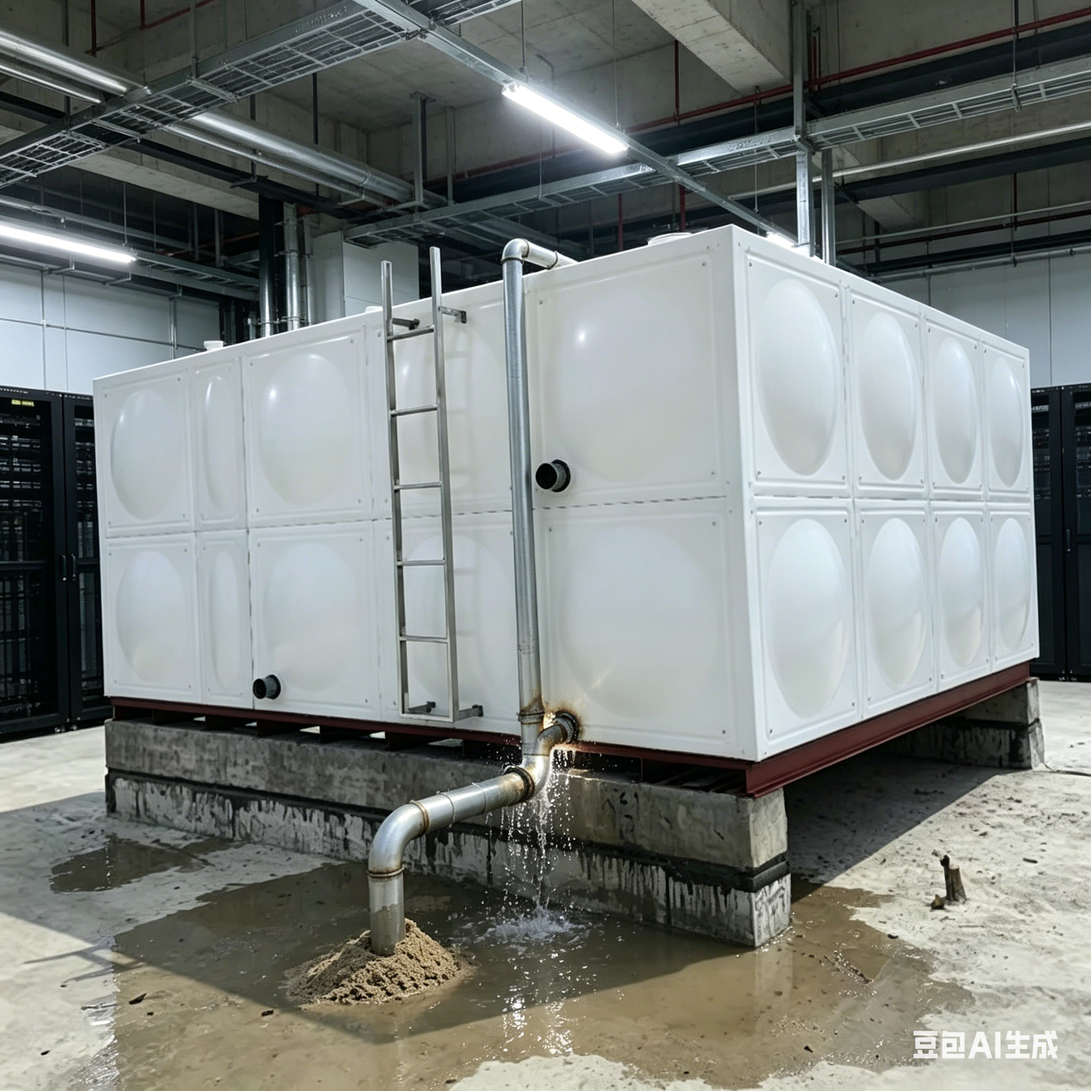Leakage: (110, 921, 459, 1091), (638, 906, 957, 1075), (495, 722, 624, 1063), (28, 830, 201, 890), (229, 878, 445, 909)
